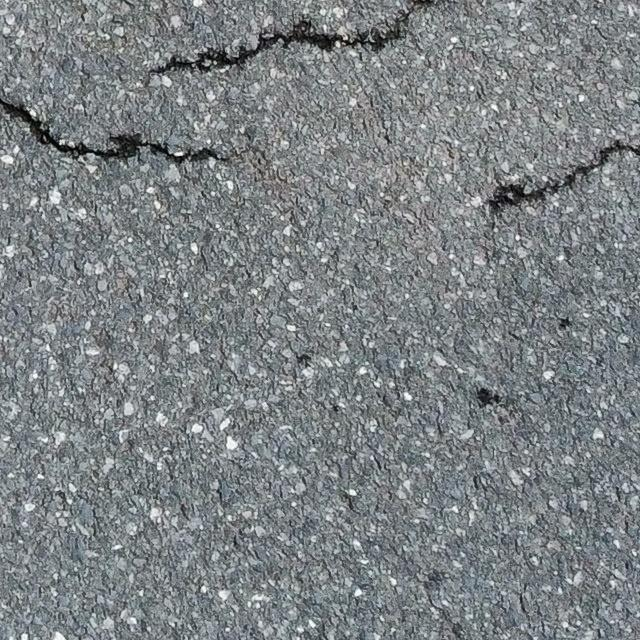TransverseCrack: (151, 1, 436, 78), (2, 98, 229, 164), (486, 139, 640, 216)
